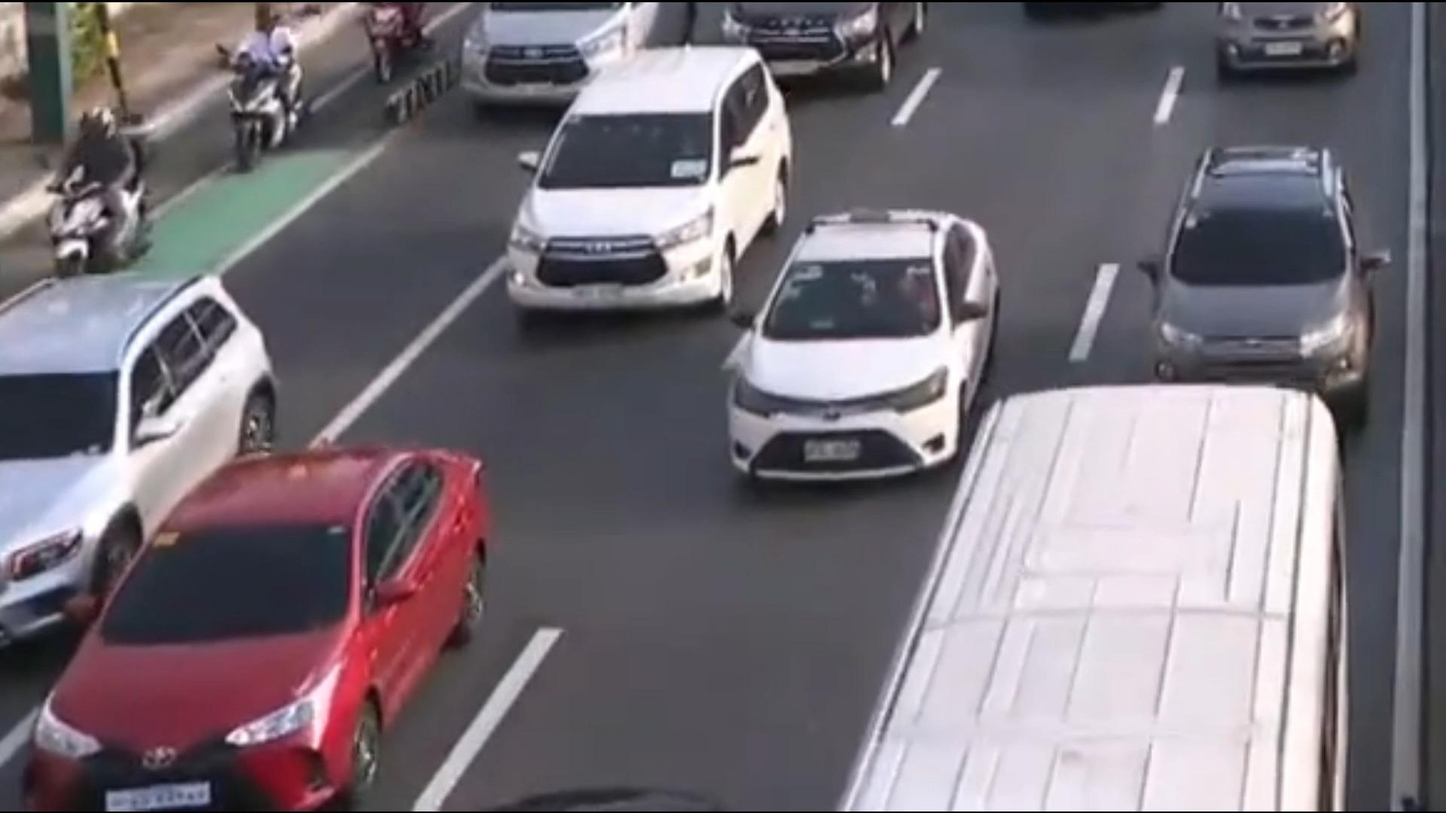Bus: (829, 382, 1356, 813)
Motorcycle: (48, 102, 153, 272), (216, 0, 309, 182), (348, 0, 429, 91)
SUV: (0, 267, 279, 639), (502, 43, 795, 315), (1135, 141, 1378, 406)
Sedan: (16, 446, 490, 813), (724, 209, 1002, 494)
